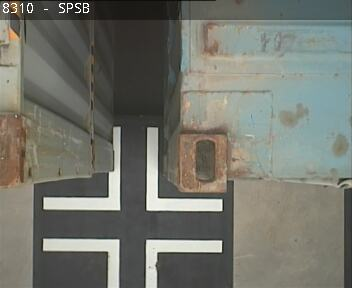groundmarker_1: (43, 127, 222, 212), (43, 239, 221, 288)
